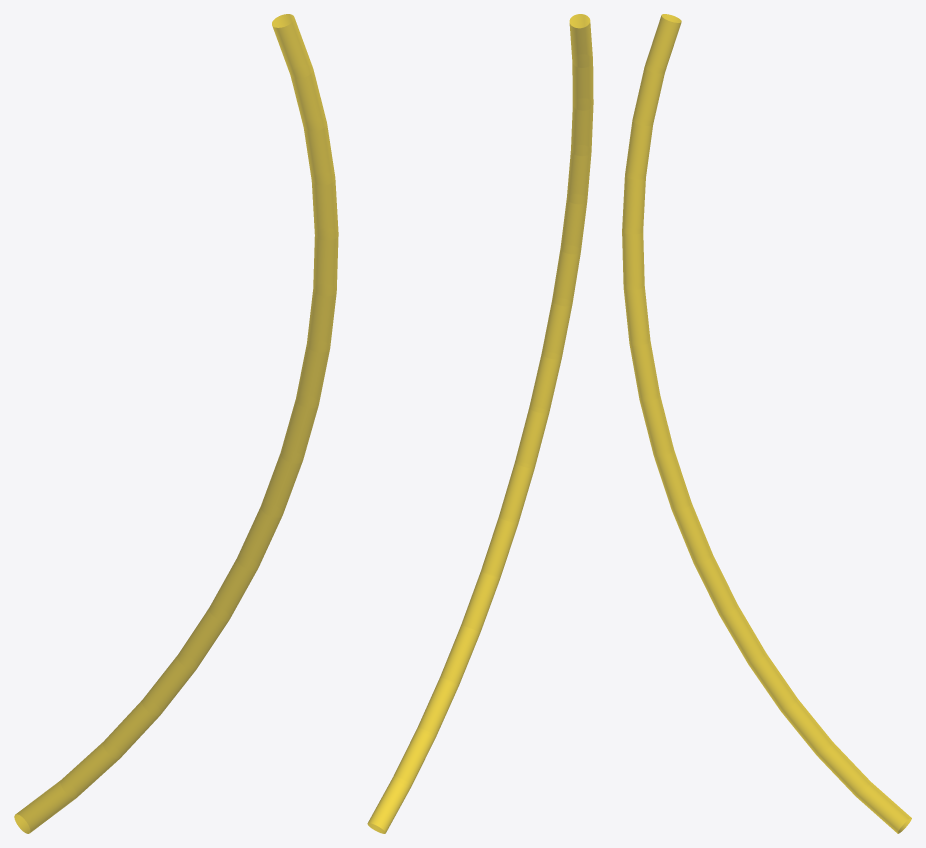
File: Event_84804159_track_39.fbx
3 views of the same model, side by side, from view 1: azimuth 90°, elevation 25°; view 2: azimuth 150°, elevation 25°; view 3: azimuth 270°, elevation 25° (orthographic). The views are drawn at different scales.
Visible parts, largest first — view 1: Model; view 2: Model; view 3: Model.
Part boxes in pixels (bbox=[...]): Model: bbox=[14, 14, 338, 833]; Model: bbox=[367, 14, 593, 833]; Model: bbox=[622, 14, 911, 833].
Size of the model in its own units: 0.2374 by 1.6 by 0.5436.
